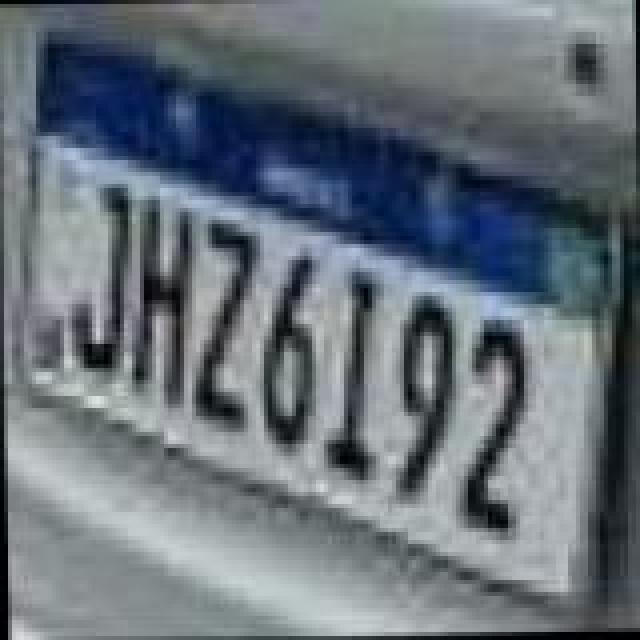2: (446, 324, 530, 548)
6: (254, 252, 318, 448)
9: (386, 296, 462, 504)
H: (124, 190, 200, 414)
I: (322, 270, 386, 478)
J: (64, 178, 140, 374)
Z: (188, 216, 264, 440)
